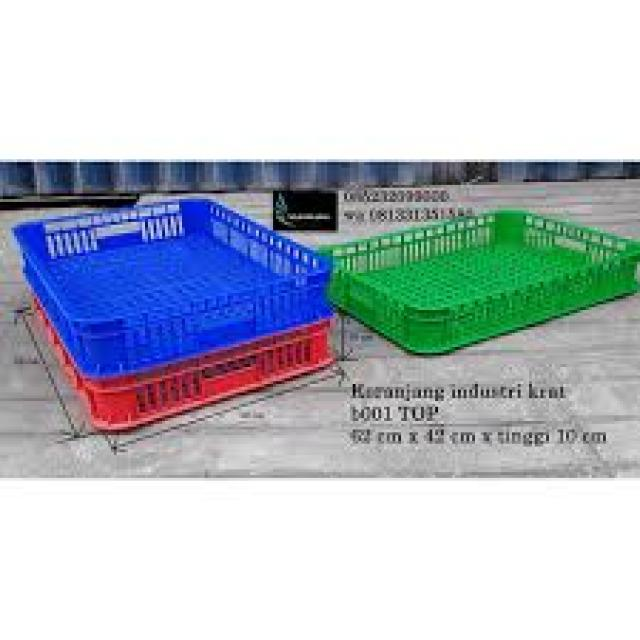basket: (9, 139, 360, 447)
